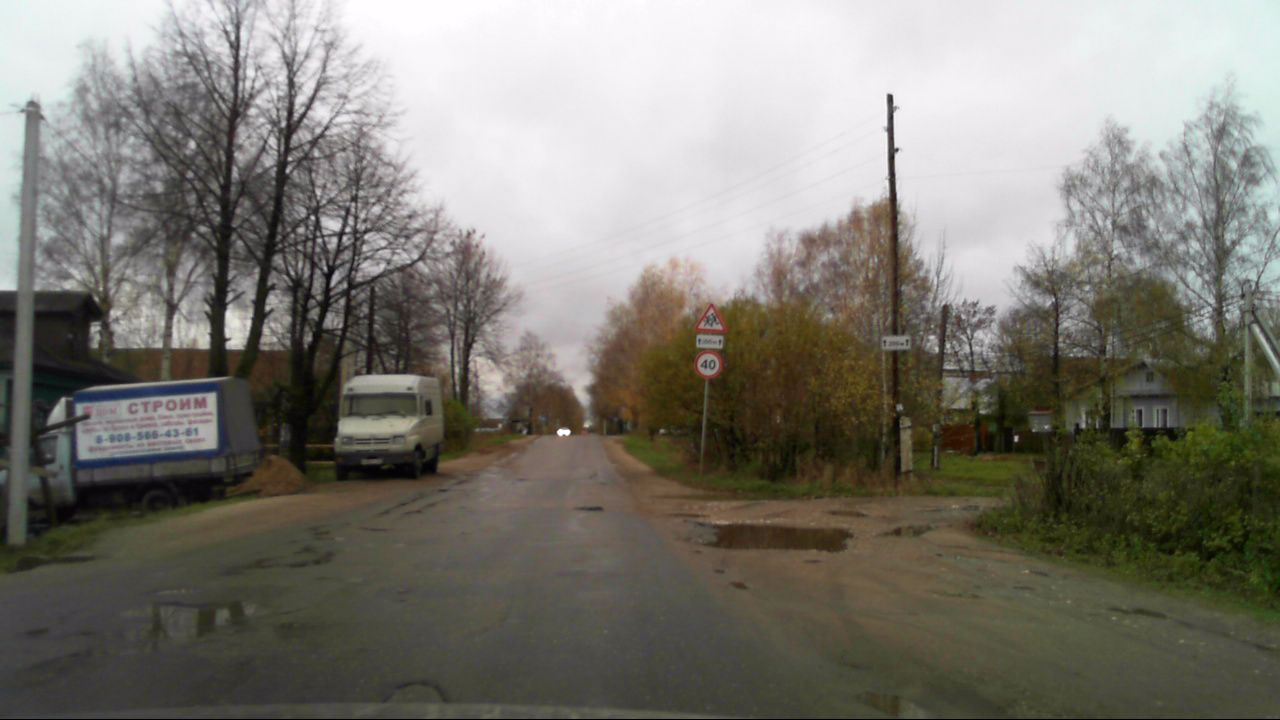speed_warning_40: (692, 349, 725, 379)
